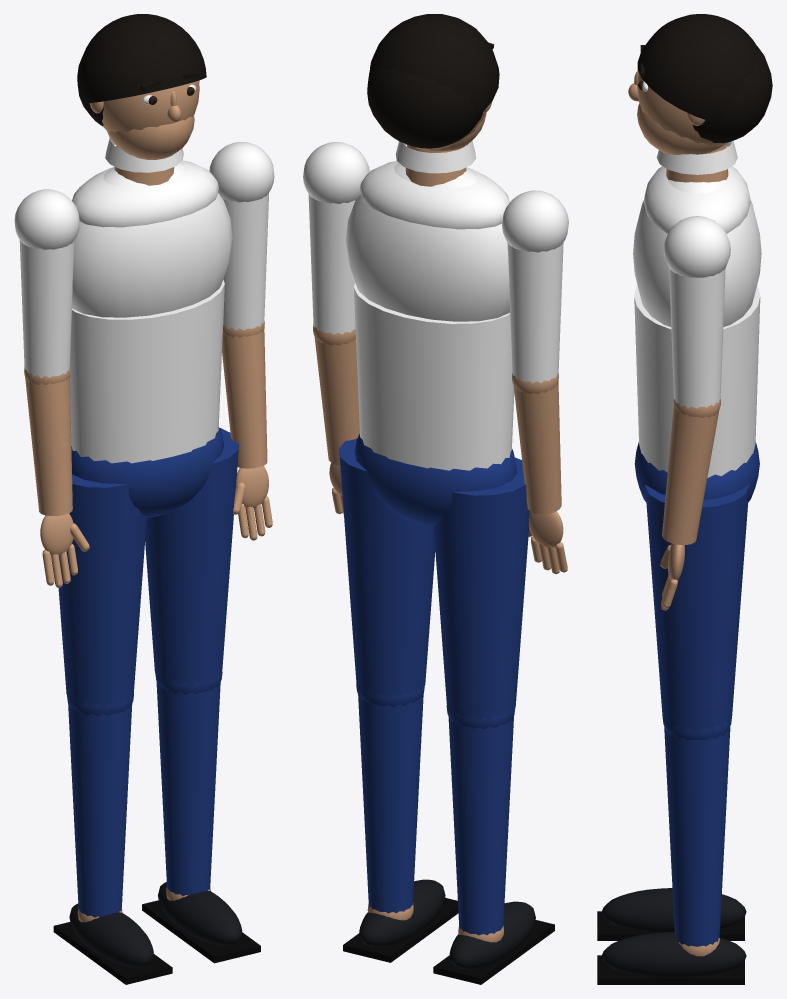
File: villager-student.glb
The picture shows the model from 3 angles, left to right: view 1: azimuth 30°, elevation 25°; view 2: azimuth 150°, elevation 25°; view 3: azimuth 270°, elevation 25°; orthographic projection. The views are drawn at different scales.
Parts seen in each view (by area): view 1: leg (×2), arm (×2), object 1, object 2, object 22, object 3, villager-student, object 7, object 8, object 6, object 5; view 2: leg (×2), arm (×2), object 1, object 2, object 22, object 23, object 3, villager-student, object 6, object 5; view 3: leg (×2), arm, object 1, object 22, object 2, object 3, object 23, villager-student, object 7, object 6, object 8, object 5.
Boxes of the visible parts, bbox=[...] form: leg (×2): bbox=[53, 427, 260, 984]; arm (×2): bbox=[14, 142, 274, 587]; object 1: bbox=[69, 280, 224, 463]; object 2: bbox=[72, 162, 232, 317]; object 22: bbox=[79, 14, 206, 102]; object 3: bbox=[72, 160, 219, 227]; villager-student: bbox=[71, 427, 223, 517]; object 7: bbox=[102, 80, 199, 132]; object 8: bbox=[107, 114, 194, 159]; object 6: bbox=[105, 137, 183, 172]; object 5: bbox=[114, 146, 174, 185]; leg (×2): bbox=[339, 438, 554, 984]; arm (×2): bbox=[303, 142, 568, 574]; object 1: bbox=[353, 283, 514, 470]; object 2: bbox=[346, 163, 509, 321]; object 22: bbox=[369, 14, 499, 116]; object 23: bbox=[367, 67, 482, 148]; object 3: bbox=[359, 161, 509, 229]; villager-student: bbox=[354, 434, 517, 526]; object 6: bbox=[395, 141, 476, 173]; object 5: bbox=[405, 144, 466, 186]; leg (×2): bbox=[597, 484, 749, 984]; arm: bbox=[660, 216, 730, 610]; object 1: bbox=[634, 285, 760, 477]; object 22: bbox=[637, 14, 758, 123]; object 2: bbox=[633, 179, 761, 326]; object 3: bbox=[643, 166, 750, 233]; object 23: bbox=[692, 46, 772, 143]; villager-student: bbox=[634, 442, 759, 501]; object 7: bbox=[637, 72, 727, 146]; object 6: bbox=[656, 140, 737, 174]; object 8: bbox=[637, 103, 724, 154]; object 5: bbox=[666, 144, 728, 182].
Size of the model in its own units: 0.4681 by 1.63 by 0.2766.
